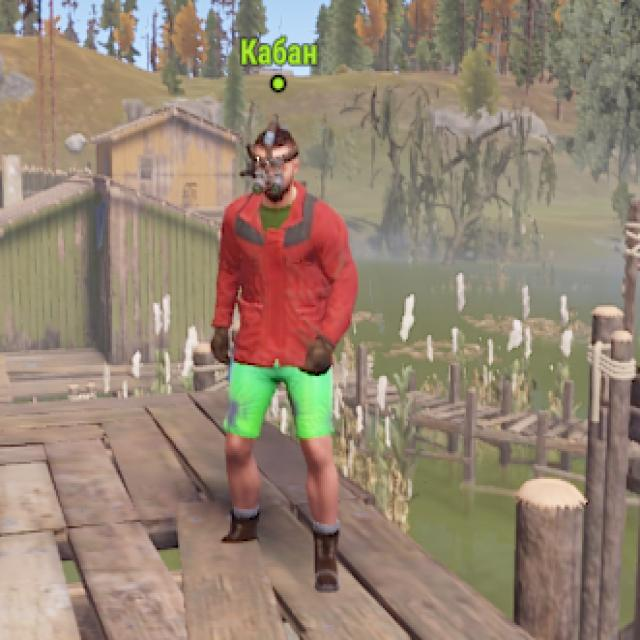Player: (214, 123, 360, 592)
